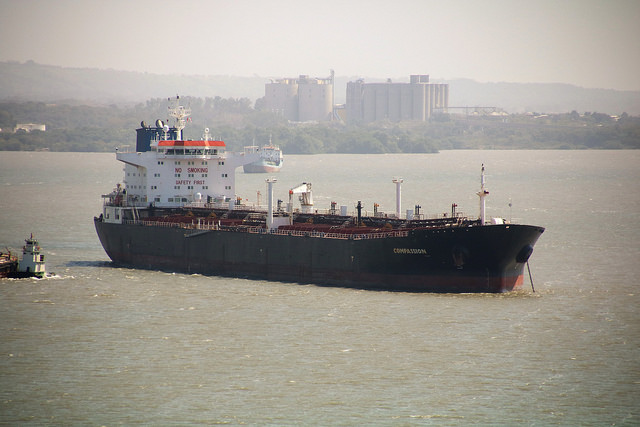bulk carrier: (94, 94, 545, 295)
